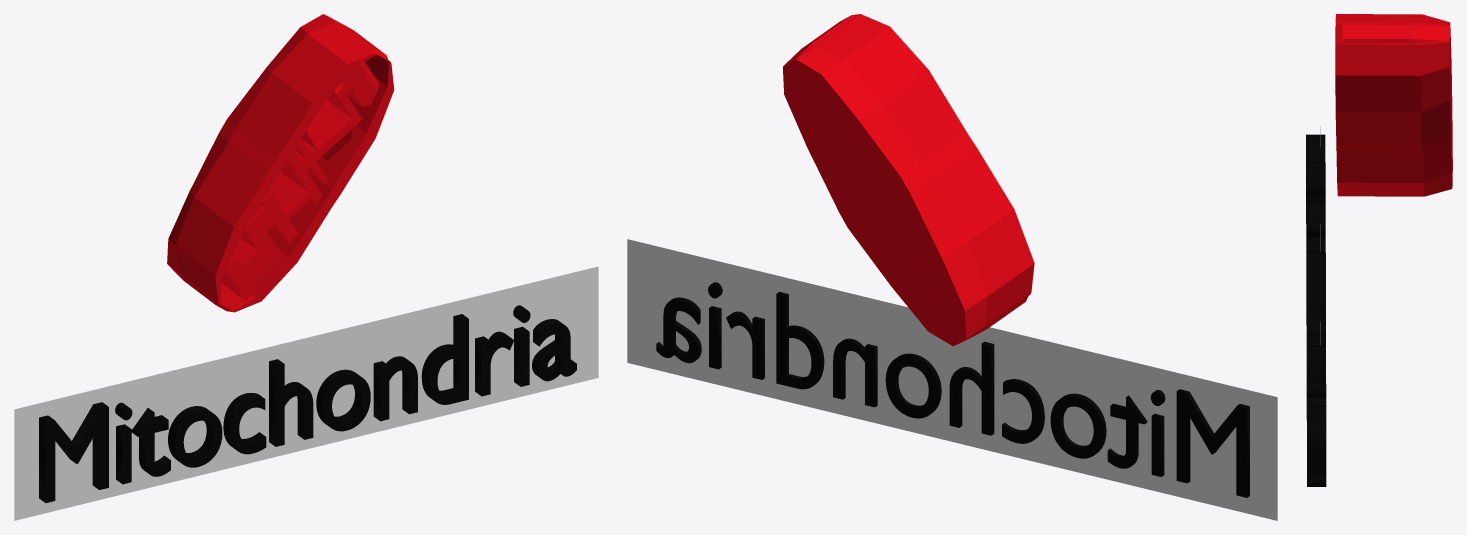
Rendered from mitochondria.gltf.
3 views of the same model, side by side, from view 1: azimuth 30°, elevation 25°; view 2: azimuth 150°, elevation 25°; view 3: azimuth 270°, elevation 25° (orthographic). The views are drawn at different scales.
Parts seen in each view (by area): view 1: Plane.032, Cube.011, Text.028; view 2: Plane.032, Cube.011, Text.028; view 3: Cube.011, Text.028.
Part boxes in pixels (x1=…): Plane.032: x1=14, y1=266, x2=598, y2=520; Cube.011: x1=167, y1=14, x2=394, y2=312; Text.028: x1=39, y1=305, x2=576, y2=502; Plane.032: x1=627, y1=239, x2=1277, y2=520; Cube.011: x1=783, y1=14, x2=1034, y2=346; Text.028: x1=656, y1=282, x2=1249, y2=497; Cube.011: x1=1335, y1=14, x2=1452, y2=196; Text.028: x1=1306, y1=134, x2=1326, y2=486.
Size of the model in its own units: 1.33 by 0.8122 by 0.278.
